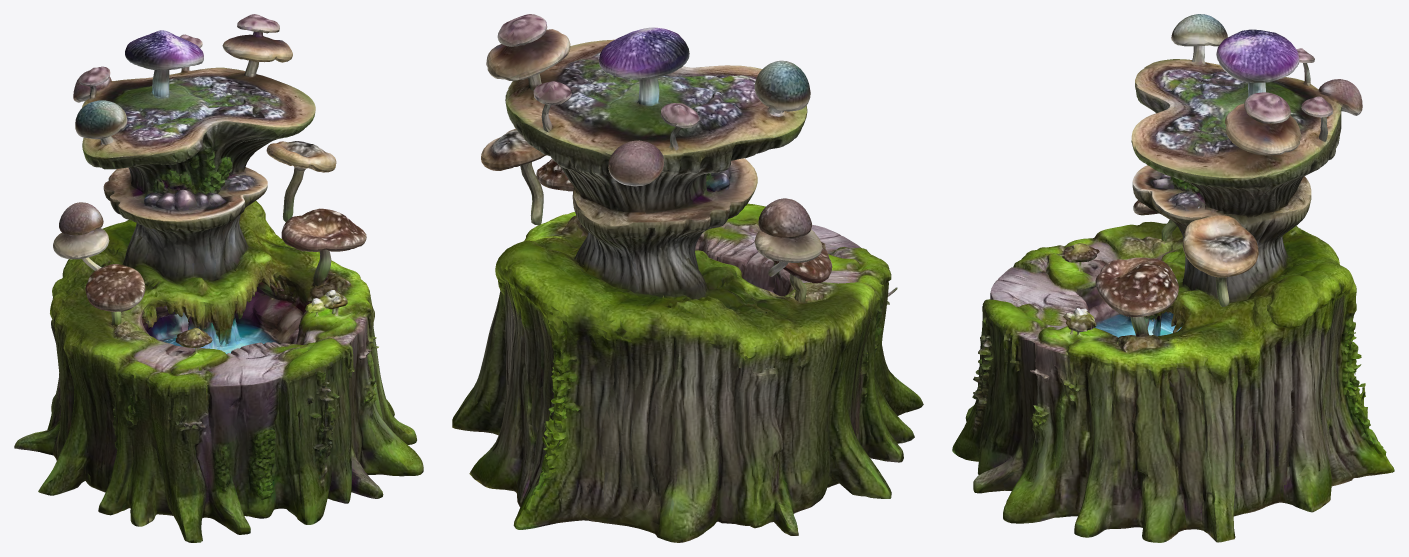
File: Mushroom_Citadel_on_a.glb
3 renders of one model, left to right at view 1: azimuth 30°, elevation 25°; view 2: azimuth 150°, elevation 25°; view 3: azimuth 270°, elevation 25°, orthographic. The views are drawn at different scales.
Visible parts, largest first — view 1: Mushroom_Citadel_on_a; view 2: Mushroom_Citadel_on_a; view 3: Mushroom_Citadel_on_a.
Boxes of the visible parts, <box> form: Mushroom_Citadel_on_a: <box>14,14,423,542</box>; Mushroom_Citadel_on_a: <box>452,14,923,542</box>; Mushroom_Citadel_on_a: <box>952,14,1394,542</box>.
Size of the model in its own units: 1.8 by 1.91 by 1.85.
1 material, 1 textured.
